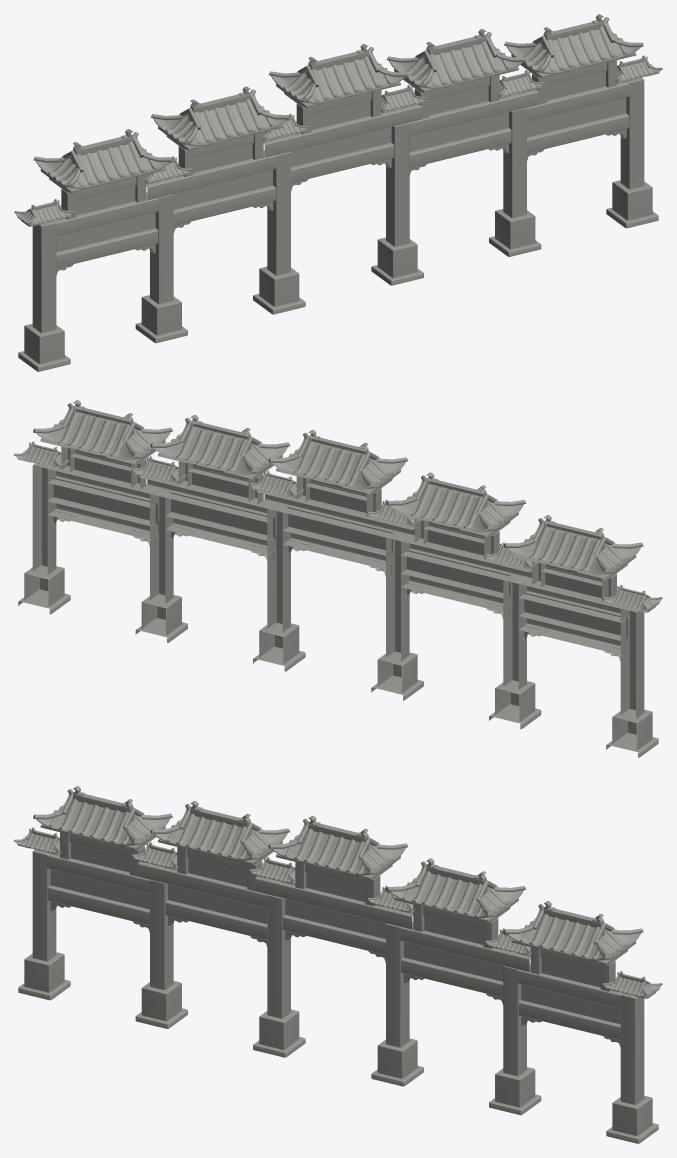
File: ShiSanLing.fbx
3 renders of one model, top to bottom at view 1: azimuth 30°, elevation 25°; view 2: azimuth 150°, elevation 25°; view 3: azimuth 330°, elevation 25°, orthographic.
Visible parts, largest first — view 1: Object006; view 2: Object006; view 3: Object006.
Boxes of the visible parts, box(x1,y1,x2,y2) form: Object006: box(14, 14, 662, 371); Object006: box(14, 400, 662, 757); Object006: box(14, 786, 662, 1143).
Size of the model in its own units: 279 by 99.89 by 28.58.
